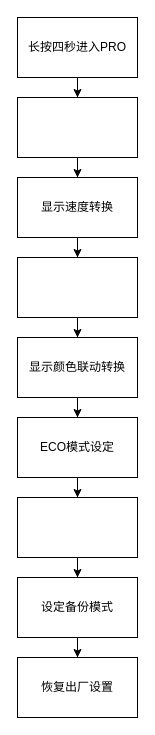
The diagram is 155 pixels wide and 735 high, and some of its shapes have lost their labels. The shapes that lost their labels are listed below. From the top down, each one's box as (x1, y1, x2, y2) in pixels, then its label:
(16, 96, 138, 158): 次屏显示
(16, 256, 138, 318): 应差设置
(16, 496, 138, 558): 设定确认码
